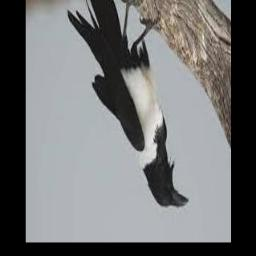Crow: (67, 0, 189, 209)
